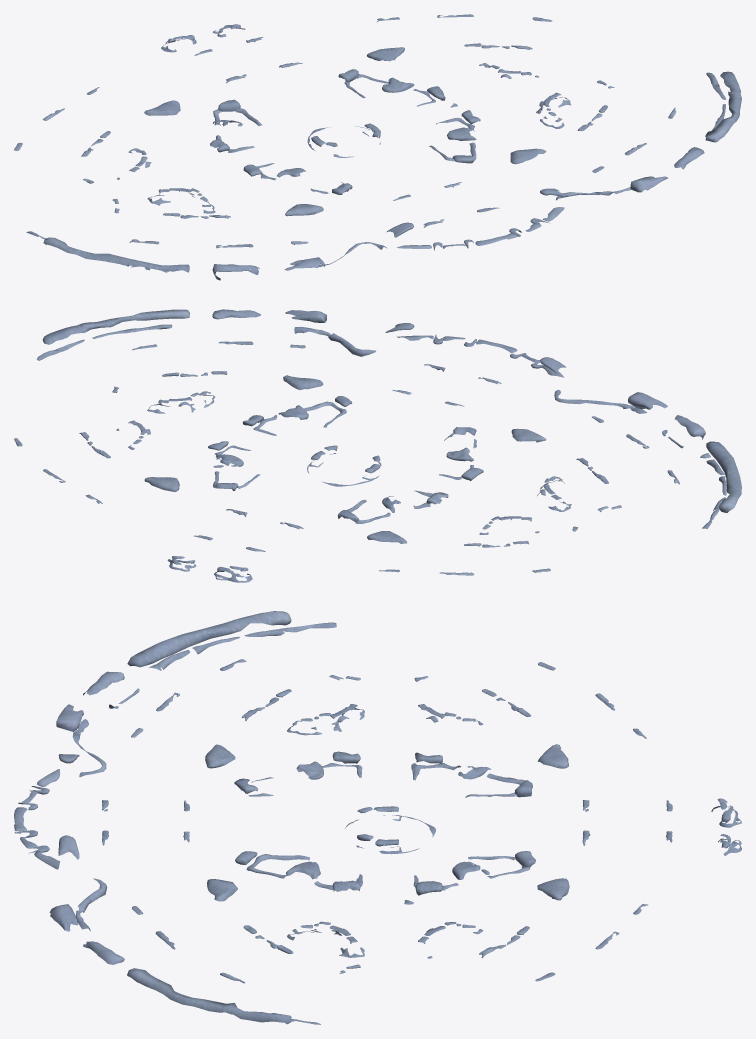
The model's file is pref_vertexcolor_snow_lv1.fbx.
3 views of the same model, one above another, from view 1: azimuth 30°, elevation 25°; view 2: azimuth 150°, elevation 25°; view 3: azimuth 270°, elevation 25° (orthographic). The views are drawn at different scales.
Visible parts, largest first — view 1: pref_sm_beach_winter_snow01_lv1, pref_sm_beach_winter_snow08_lv1, pref_sm_beach_winter_snow07_lv1, pref_sm_beach_winter_snow17_lv1, pref_sm_beach_winter_snow12_lv1, pref_sm_beach_winter_snow13_lv1, pref_sm_beach_winter_snow10_lv1, pref_sm_beach_winter_snow11_lv1, pref_sm_beach_winter_snow09_lv1; view 2: pref_sm_beach_winter_snow01_lv1, pref_sm_beach_winter_snow08_lv1, pref_sm_beach_winter_snow07_lv1, pref_sm_beach_winter_snow17_lv1, pref_sm_beach_winter_snow11_lv1, pref_sm_beach_winter_snow13_lv1, pref_sm_beach_winter_snow12_lv1, pref_sm_beach_winter_snow09_lv1, pref_sm_beach_winter_snow10_lv1; view 3: pref_sm_beach_winter_snow01_lv1, pref_sm_beach_winter_snow07_lv1, pref_sm_beach_winter_snow08_lv1, pref_sm_beach_winter_snow17_lv1, pref_sm_beach_winter_snow12_lv1, pref_sm_beach_winter_snow13_lv1, pref_sm_beach_winter_snow11_lv1, pref_sm_beach_winter_snow09_lv1, pref_sm_beach_winter_snow10_lv1.
Boxes of the visible parts, bbox=[...] form: pref_sm_beach_winter_snow01_lv1: bbox=[144, 47, 546, 216]; pref_sm_beach_winter_snow08_lv1: bbox=[556, 71, 741, 200]; pref_sm_beach_winter_snow07_lv1: bbox=[26, 231, 387, 280]; pref_sm_beach_winter_snow17_lv1: bbox=[386, 182, 564, 250]; pref_sm_beach_winter_snow12_lv1: bbox=[112, 188, 308, 248]; pref_sm_beach_winter_snow13_lv1: bbox=[536, 80, 676, 172]; pref_sm_beach_winter_snow10_lv1: bbox=[377, 14, 552, 78]; pref_sm_beach_winter_snow11_lv1: bbox=[161, 24, 302, 83]; pref_sm_beach_winter_snow09_lv1: bbox=[14, 87, 151, 183]; pref_sm_beach_winter_snow01_lv1: bbox=[144, 375, 546, 543]; pref_sm_beach_winter_snow08_lv1: bbox=[36, 309, 375, 360]; pref_sm_beach_winter_snow07_lv1: bbox=[554, 390, 741, 528]; pref_sm_beach_winter_snow17_lv1: bbox=[385, 323, 565, 406]; pref_sm_beach_winter_snow11_lv1: bbox=[167, 509, 303, 582]; pref_sm_beach_winter_snow13_lv1: bbox=[112, 341, 305, 413]; pref_sm_beach_winter_snow12_lv1: bbox=[537, 416, 679, 511]; pref_sm_beach_winter_snow09_lv1: bbox=[379, 516, 578, 575]; pref_sm_beach_winter_snow10_lv1: bbox=[14, 420, 150, 503]; pref_sm_beach_winter_snow01_lv1: bbox=[205, 744, 569, 904]; pref_sm_beach_winter_snow07_lv1: bbox=[56, 611, 336, 777]; pref_sm_beach_winter_snow08_lv1: bbox=[49, 878, 320, 1024]; pref_sm_beach_winter_snow17_lv1: bbox=[14, 754, 189, 869]; pref_sm_beach_winter_snow12_lv1: bbox=[131, 659, 364, 737]; pref_sm_beach_winter_snow13_lv1: bbox=[132, 906, 364, 983]; pref_sm_beach_winter_snow11_lv1: bbox=[582, 798, 741, 855]; pref_sm_beach_winter_snow09_lv1: bbox=[414, 662, 646, 738]; pref_sm_beach_winter_snow10_lv1: bbox=[418, 904, 647, 981].
Size of the model in its own units: 133 by 5.77 by 99.6.
